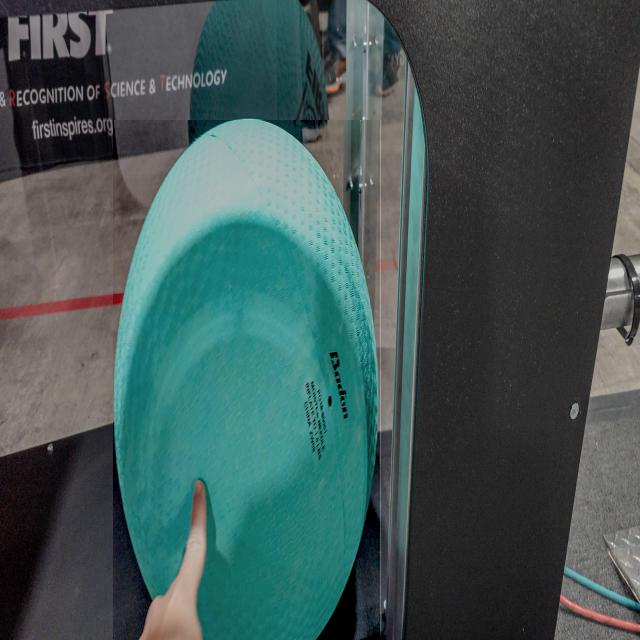Algae: (114, 120, 382, 640)
